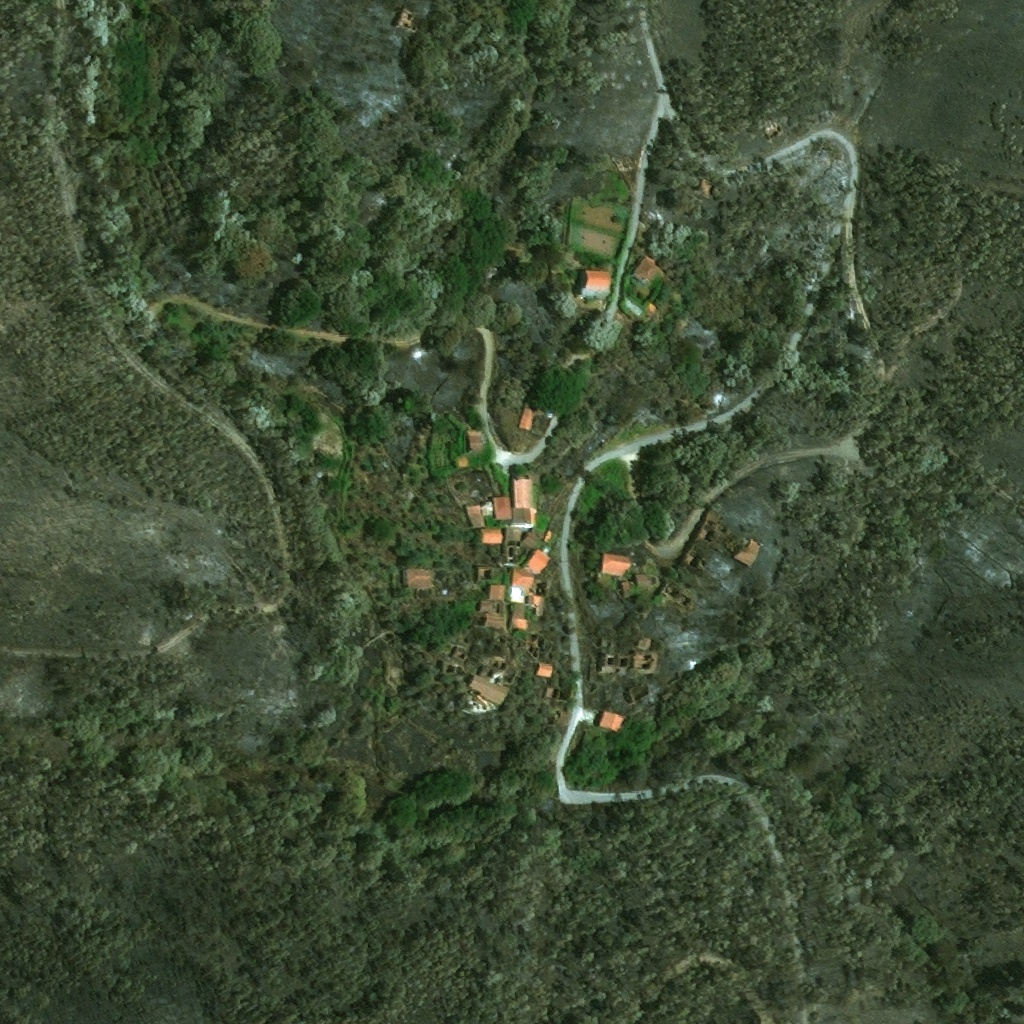0 no-damage: (494, 475, 538, 530), (468, 673, 510, 706), (510, 567, 537, 604), (576, 268, 611, 296), (600, 553, 633, 578), (633, 255, 661, 283), (737, 537, 763, 566), (402, 568, 432, 590), (593, 711, 623, 733), (526, 548, 551, 574), (509, 603, 531, 629), (467, 505, 487, 529), (526, 592, 544, 616), (517, 406, 533, 429), (482, 527, 505, 543), (467, 431, 483, 452), (522, 531, 540, 549), (536, 663, 555, 677), (621, 581, 636, 595), (544, 529, 556, 543), (647, 300, 658, 311), (459, 458, 468, 466)
2 major-damage: (474, 583, 507, 624), (636, 574, 653, 586)
3 destroyed: (489, 628, 508, 678), (514, 631, 544, 662), (697, 510, 724, 541), (634, 651, 669, 672), (596, 654, 628, 672), (502, 529, 518, 565), (396, 10, 420, 31), (478, 566, 491, 579)
